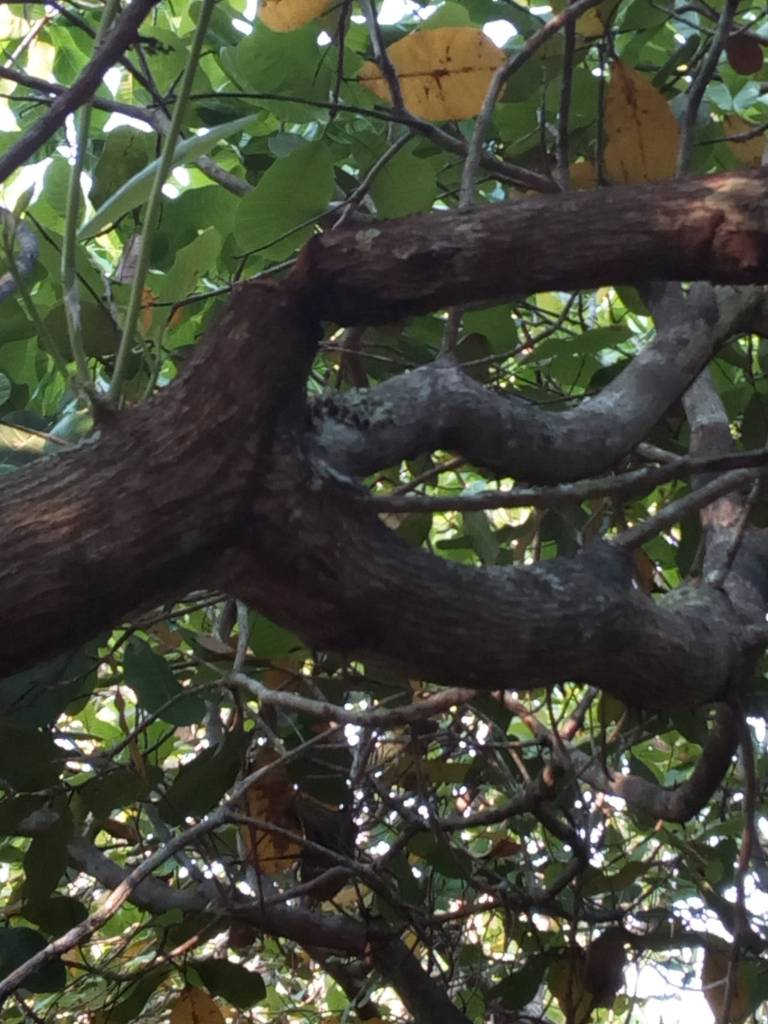Analepse trifasciata: (202, 230, 391, 355)
